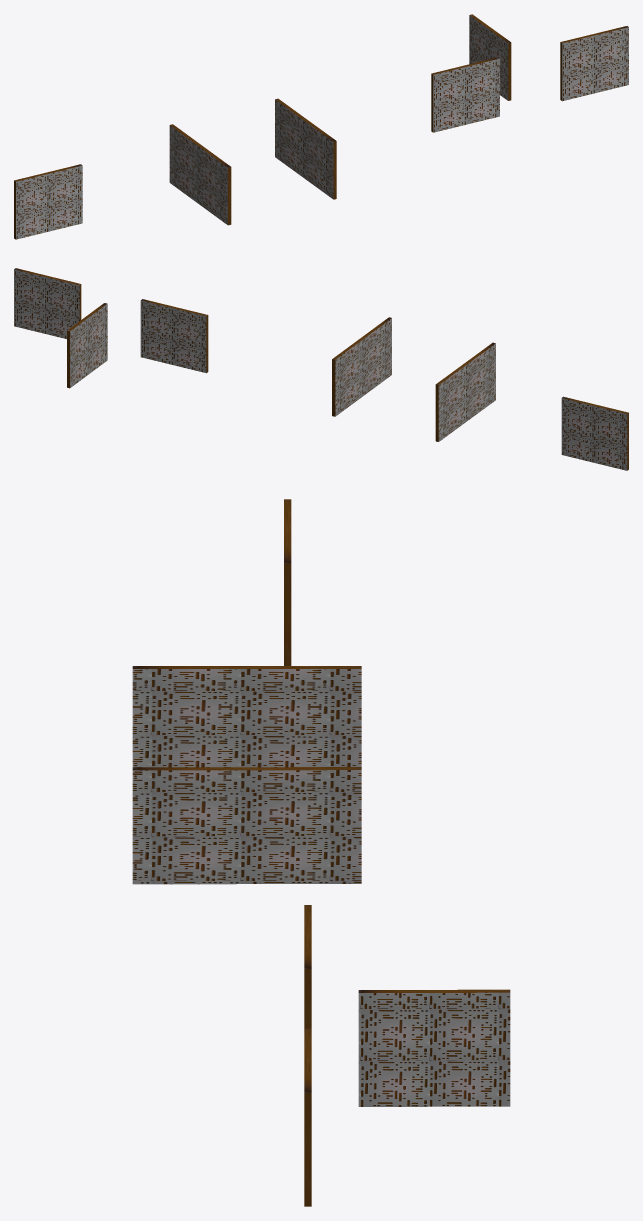
File: Dividers.obj
3 renders of one model, top to bottom at view 1: azimuth 30°, elevation 25°; view 2: azimuth 150°, elevation 25°; view 3: azimuth 270°, elevation 25°, orthographic. The views are drawn at different scales.
Visible parts, largest first — view 1: Dividers; view 2: Dividers; view 3: Dividers.
Part boxes in pixels (x1,y1,x2,y2): Dividers: [14, 14, 628, 239]; Dividers: [14, 268, 628, 470]; Dividers: [132, 499, 510, 1206].
Bounding box in the file's own units: 85.11 × 7.61 × 22.88.
